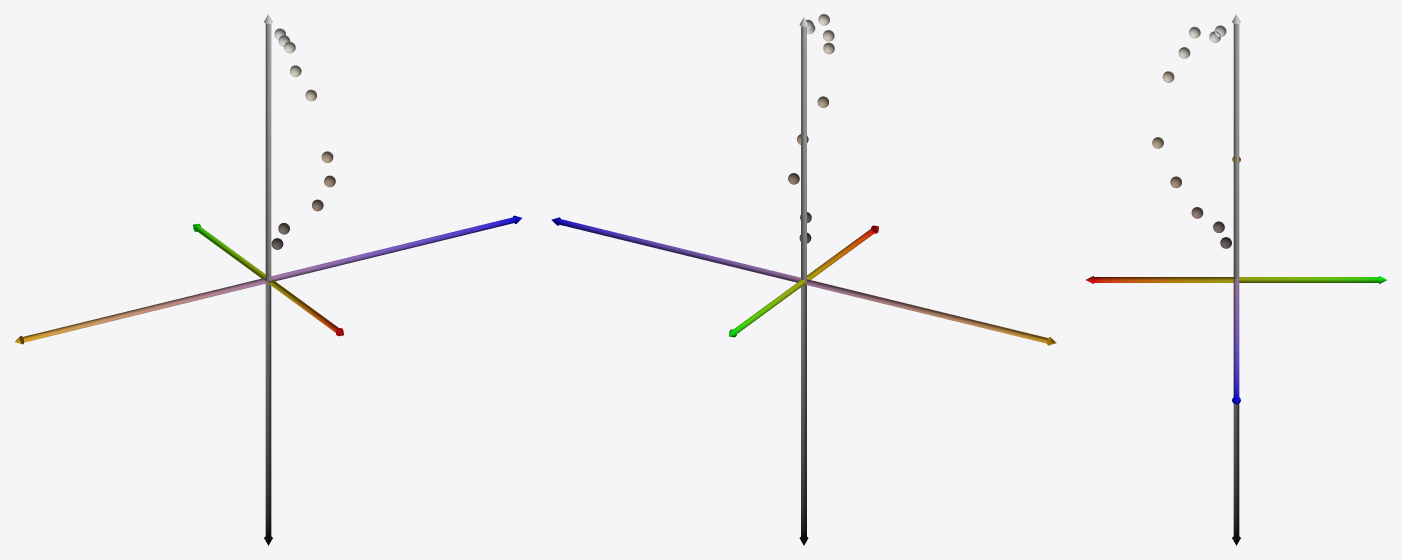
File: final product.glb
3 renders of one model, left to right at view 1: azimuth 30°, elevation 25°; view 2: azimuth 150°, elevation 25°; view 3: azimuth 270°, elevation 25°, orthographic.
Visible parts, largest first — view 1: world; view 2: world; view 3: world.
Part boxes in pixels (x1,y1,x2,y2): world: (15,14,521,545); world: (551,14,1056,545); world: (1086,14,1386,545).
Bounding box in the file's own units: 200 × 200 × 103.
